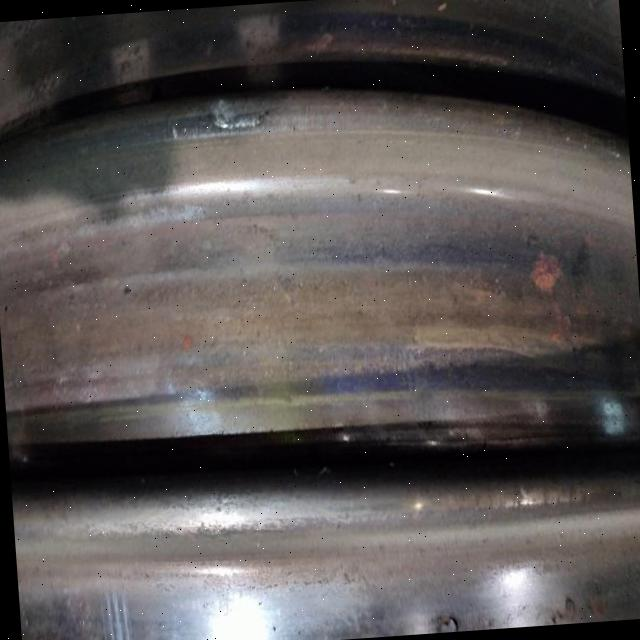Peeling: (527, 251, 597, 352)
